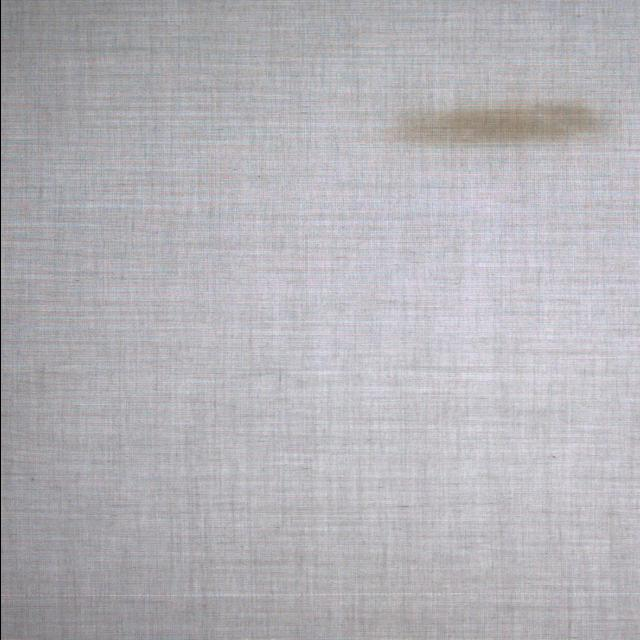dirty: (388, 103, 598, 146)
